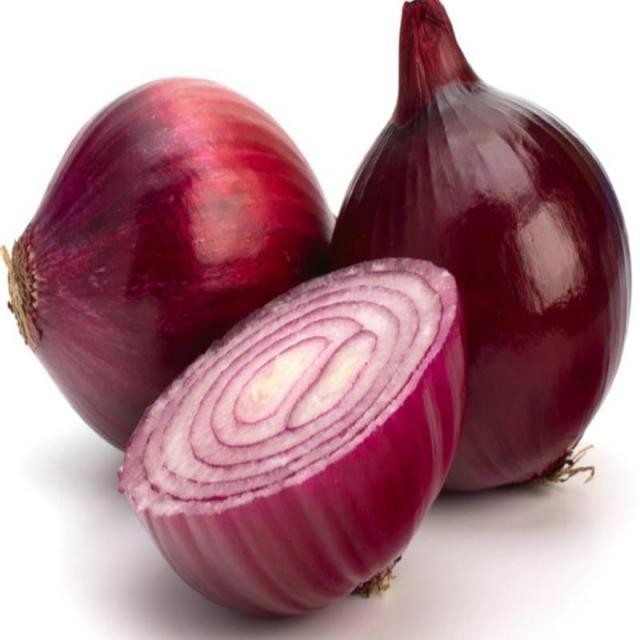onion: (332, 1, 636, 495), (120, 250, 469, 621), (8, 76, 339, 452)
